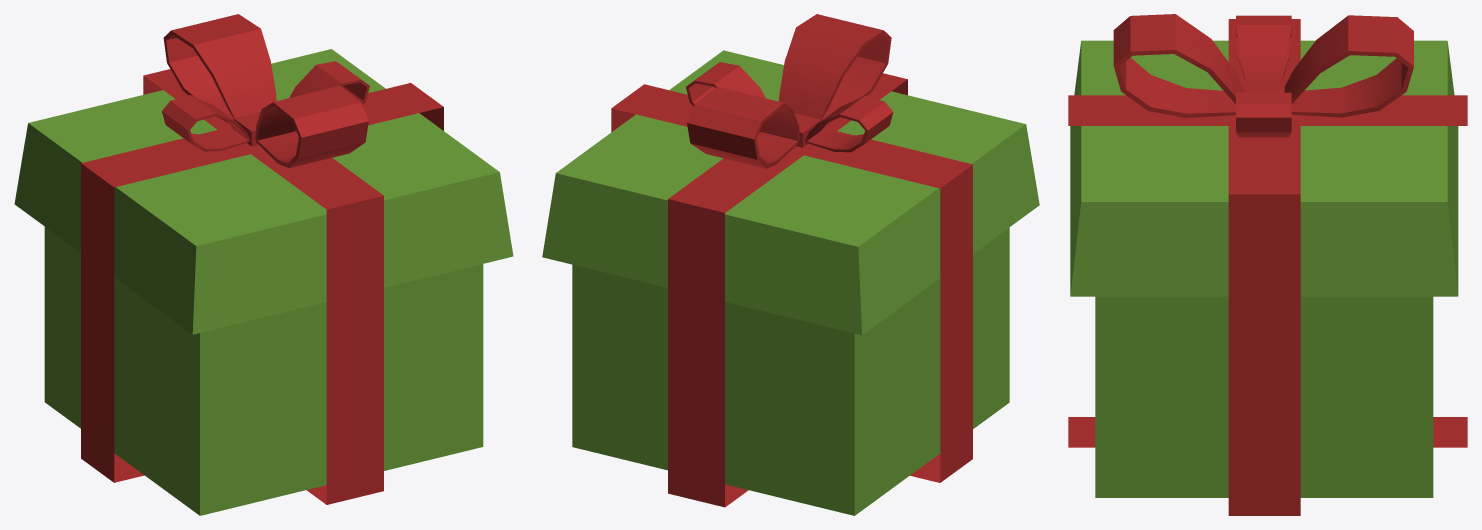
File: M_Gift_03.FBX
3 views of the same model, side by side, from view 1: azimuth 30°, elevation 25°; view 2: azimuth 150°, elevation 25°; view 3: azimuth 270°, elevation 25° (orthographic). The views are drawn at different scales.
Parts seen in each view (by area): view 1: Object008; view 2: Object008; view 3: Object008.
Part boxes in pixels (x1,y1,x2,y2): Object008: (14,14,513,515); Object008: (542,14,1039,515); Object008: (1068,14,1467,515).
Bounding box in the file's own units: 51.81 × 55.24 × 49.87.
